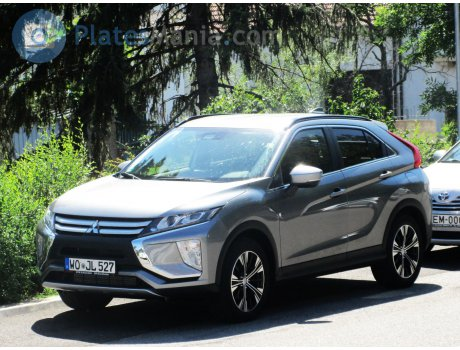License Plates: (69, 256, 113, 271)
